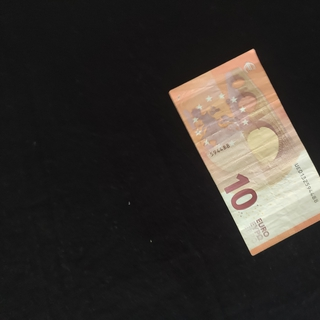10EUROBack: (168, 48, 320, 256)
